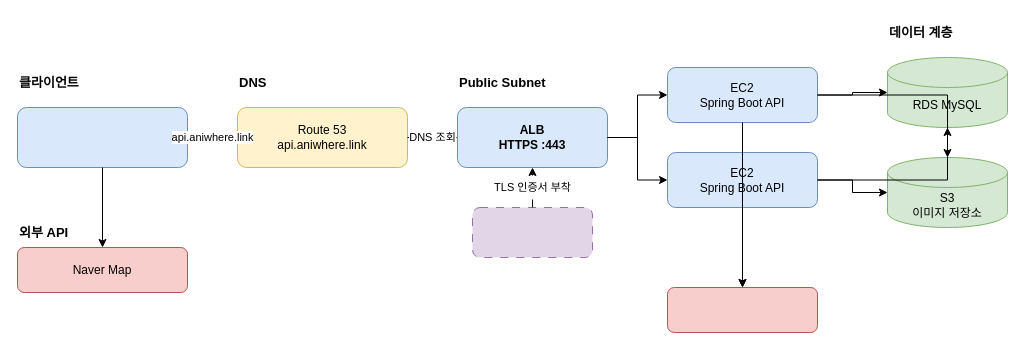
Image size: 1025x350. Some labels were removed from this diagram. The centre of each missing label's shape, as x and y in pixels:
ACM *.aniwhere.link: the point at 532,232
Apps in Toss WebView: the point at 102,137
Toss 로그인 API: the point at 742,309
